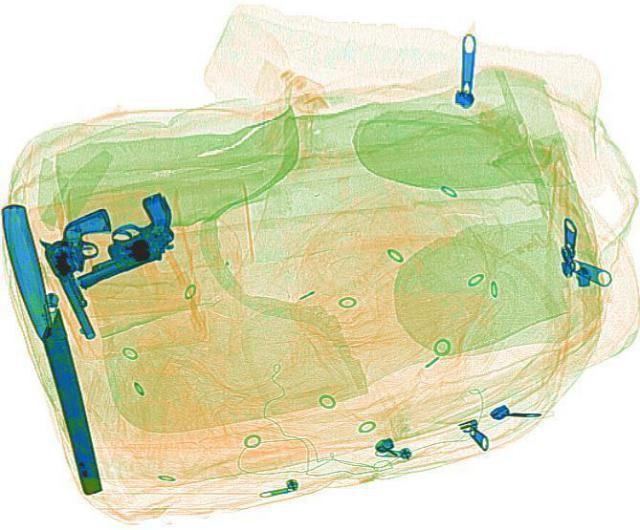Gun: (31, 205, 156, 339), (44, 189, 198, 289)
Knife: (0, 213, 110, 493)
